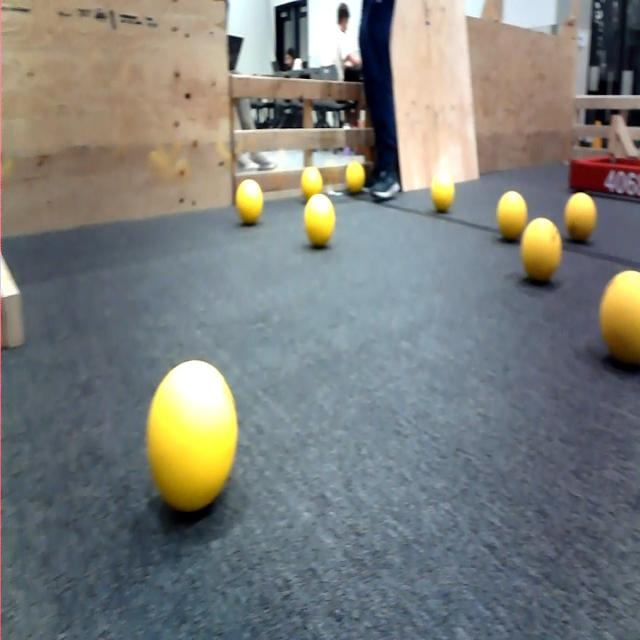Bumper: (561, 144, 640, 223)
fuel: (144, 351, 237, 512), (595, 262, 640, 392), (518, 212, 566, 290), (557, 193, 605, 248), (492, 180, 529, 247), (300, 190, 339, 250), (234, 174, 268, 233), (430, 166, 456, 220), (298, 160, 327, 204), (342, 155, 364, 193)
